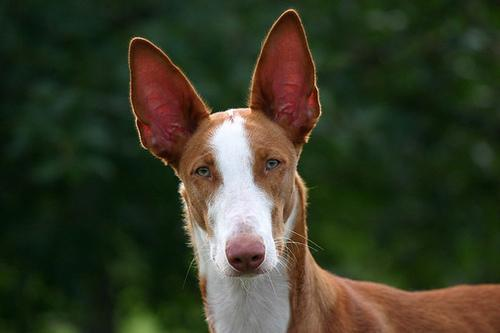Ibizan_hound: (125, 7, 499, 332)
